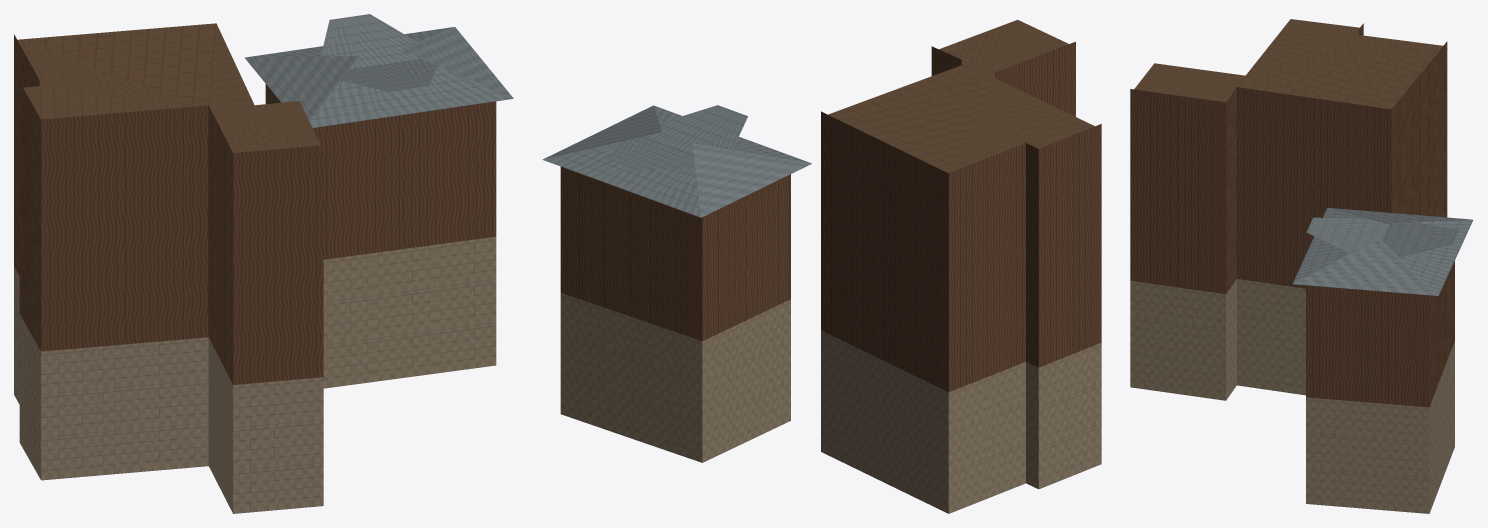
Rendered from bld_c10_8_514.gltf.
The picture shows the model from 3 angles, left to right: view 1: azimuth 30°, elevation 25°; view 2: azimuth 150°, elevation 25°; view 3: azimuth 270°, elevation 25°; orthographic projection. The views are drawn at different scales.
Visible parts, largest first — view 1: bld_c10_8_514; view 2: bld_c10_8_514; view 3: bld_c10_8_514.
Part boxes in pixels (x1=…): bld_c10_8_514: x1=14, y1=14, x2=513, y2=513; bld_c10_8_514: x1=542, y1=19, x2=1101, y2=513; bld_c10_8_514: x1=1130, y1=19, x2=1472, y2=513.
Size of the model in its own units: 20.85 by 14.48 by 14.88.
5 materials, 5 textured.
